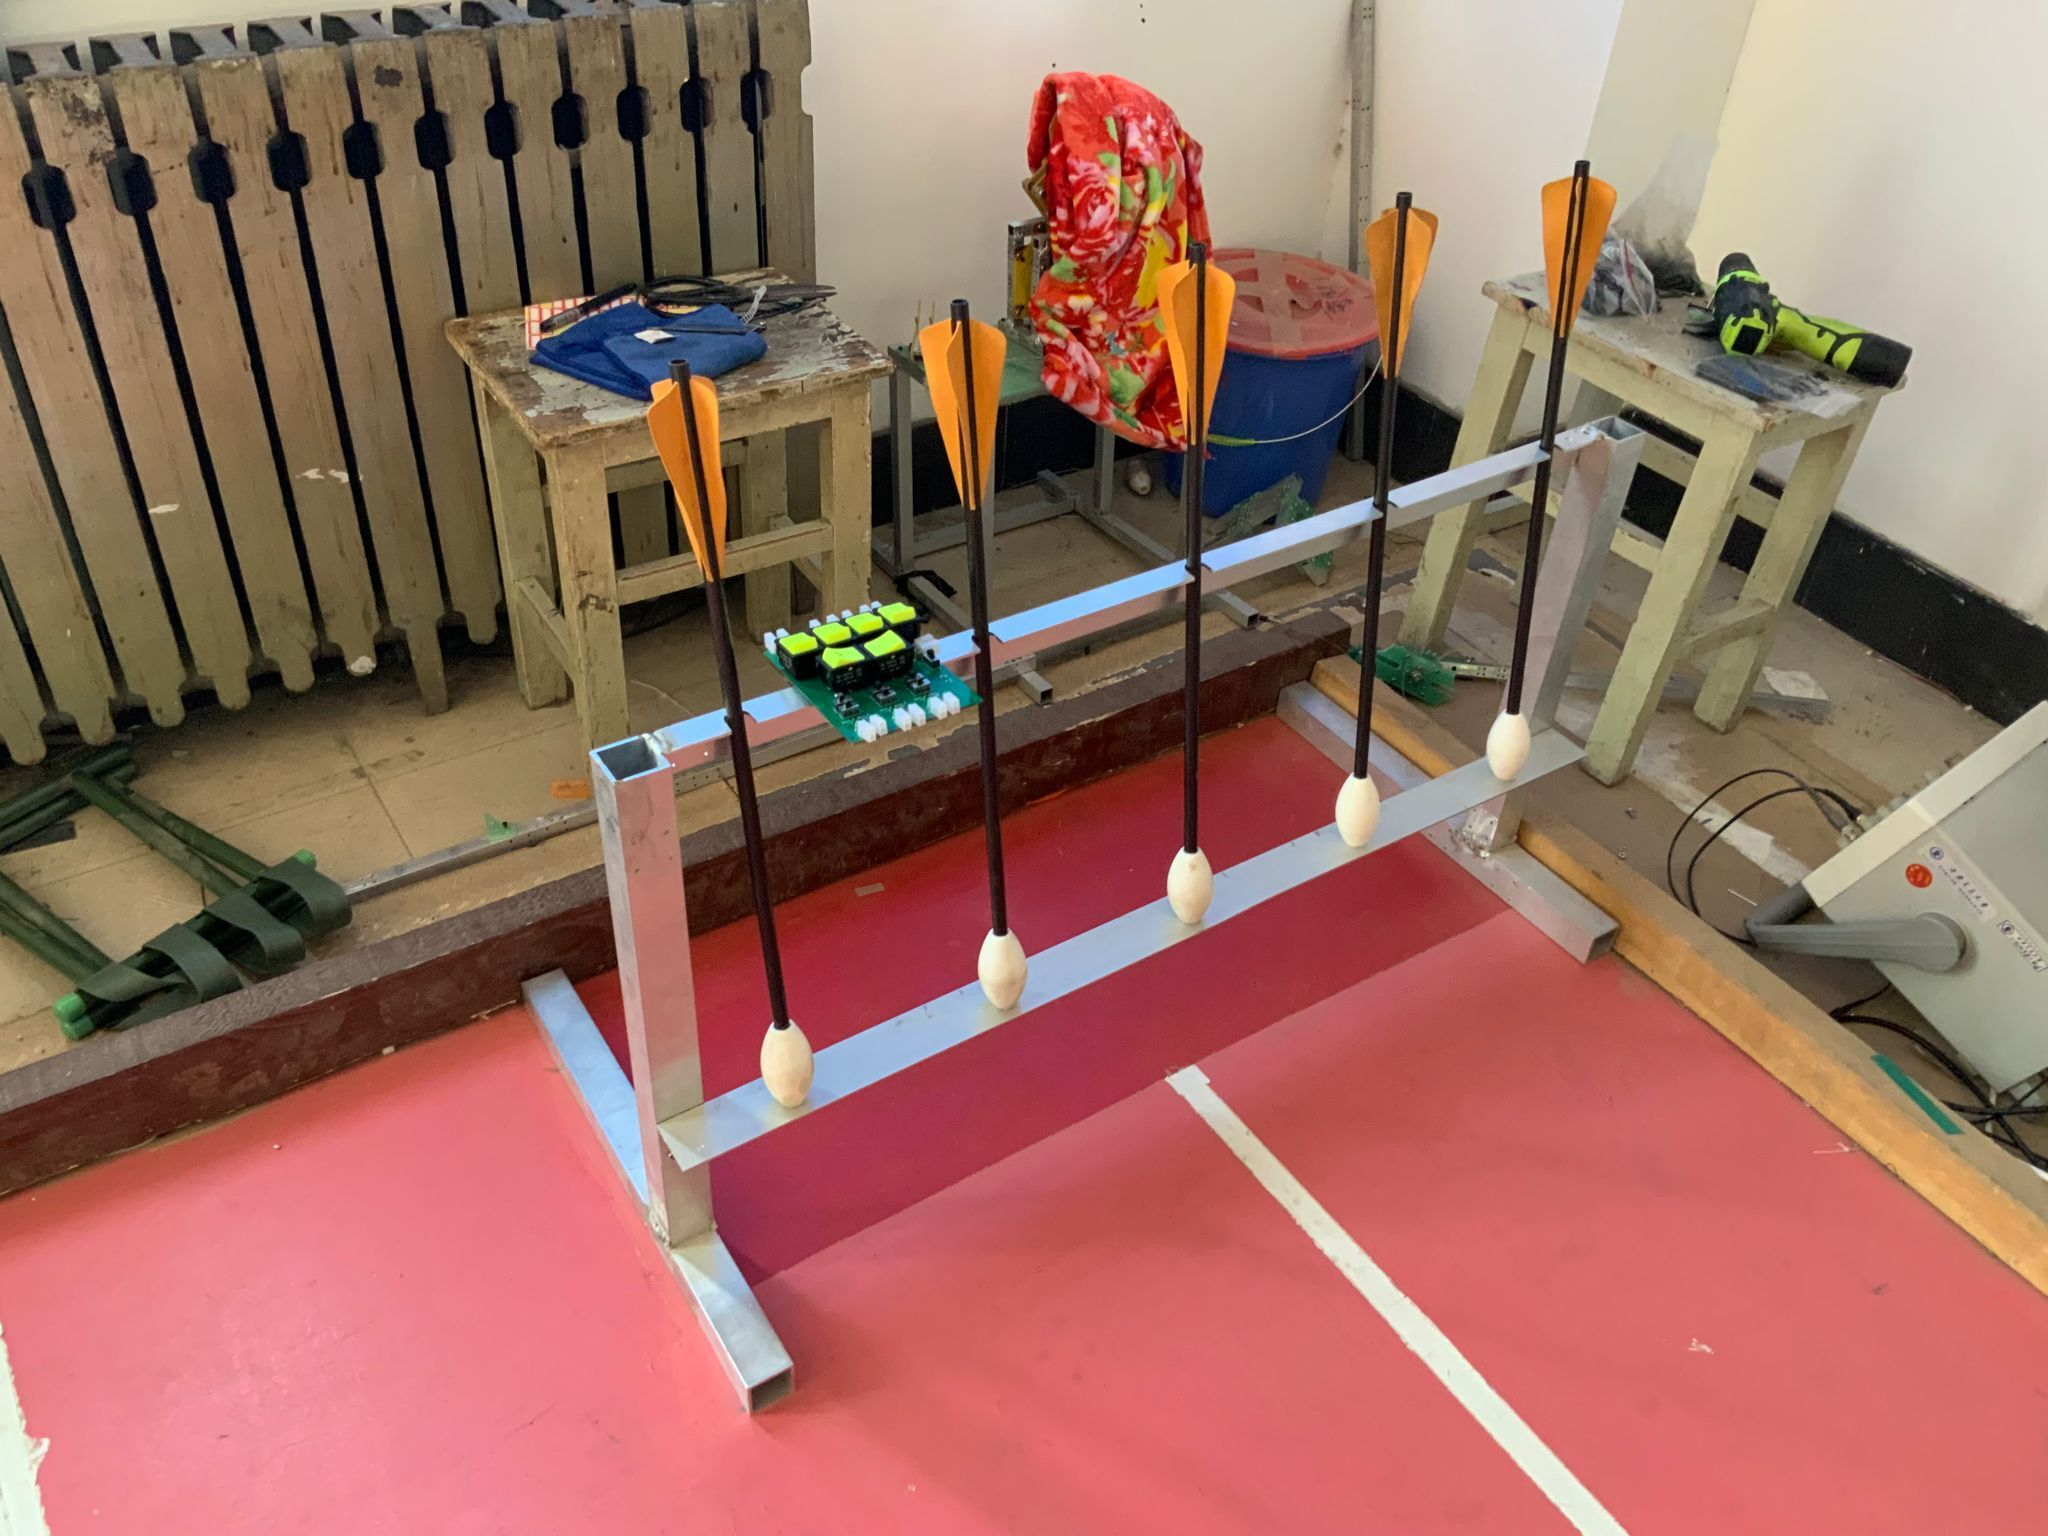arrow: (645, 360, 813, 1108), (1484, 161, 1619, 784), (918, 298, 1030, 1012), (1335, 195, 1438, 845), (1153, 242, 1235, 925)
arrowFront: (760, 1016, 814, 1108), (976, 926, 1026, 1008), (1484, 708, 1535, 786), (1164, 845, 1214, 925), (1334, 771, 1380, 849)
